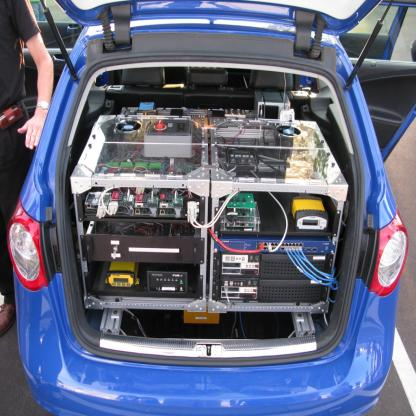Car: (7, 1, 416, 416)
